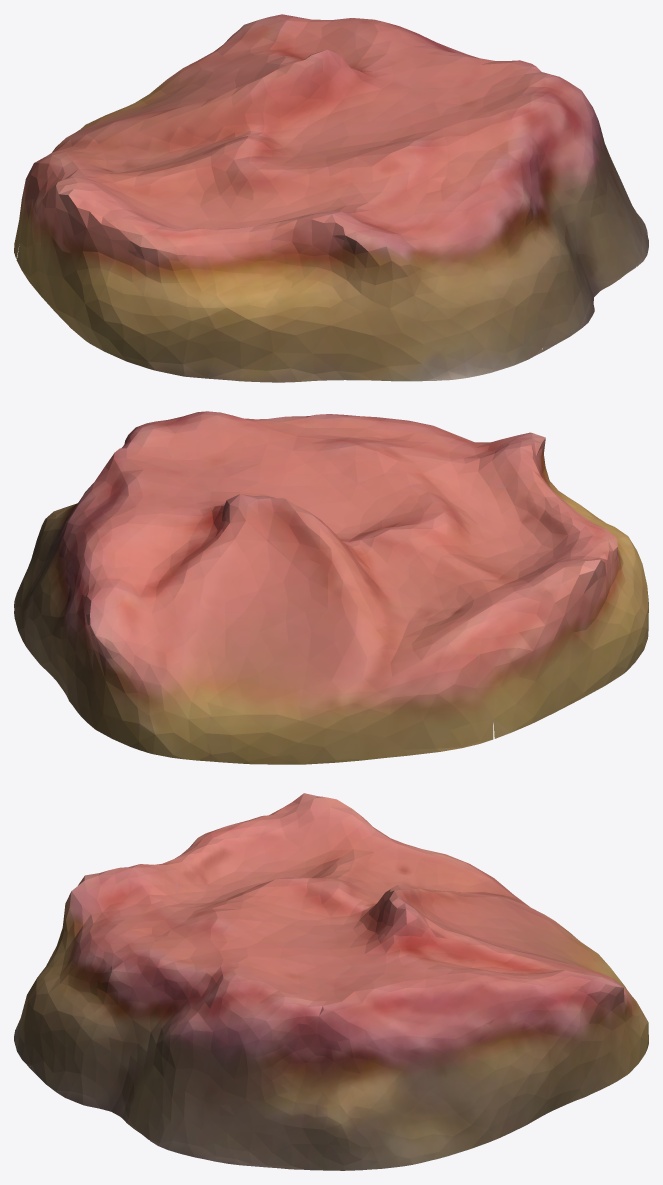
Rendered from peppermint-meltaway-cookies.gltf.
3 views of the same model, one above another, from view 1: azimuth 30°, elevation 25°; view 2: azimuth 150°, elevation 25°; view 3: azimuth 270°, elevation 25° (orthographic). The views are drawn at different scales.
Bounding box in the file's own units: 0.2819 × 0.0778 × 0.2941.
1 material, 1 textured.
